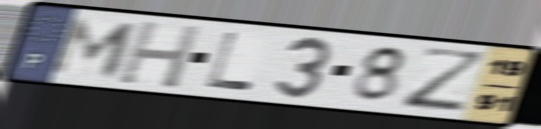3: (271, 35, 335, 101)
8: (348, 45, 406, 105)
H: (114, 18, 204, 91)
L: (203, 30, 257, 93)
M: (46, 16, 143, 79)
Z: (398, 44, 492, 113)
